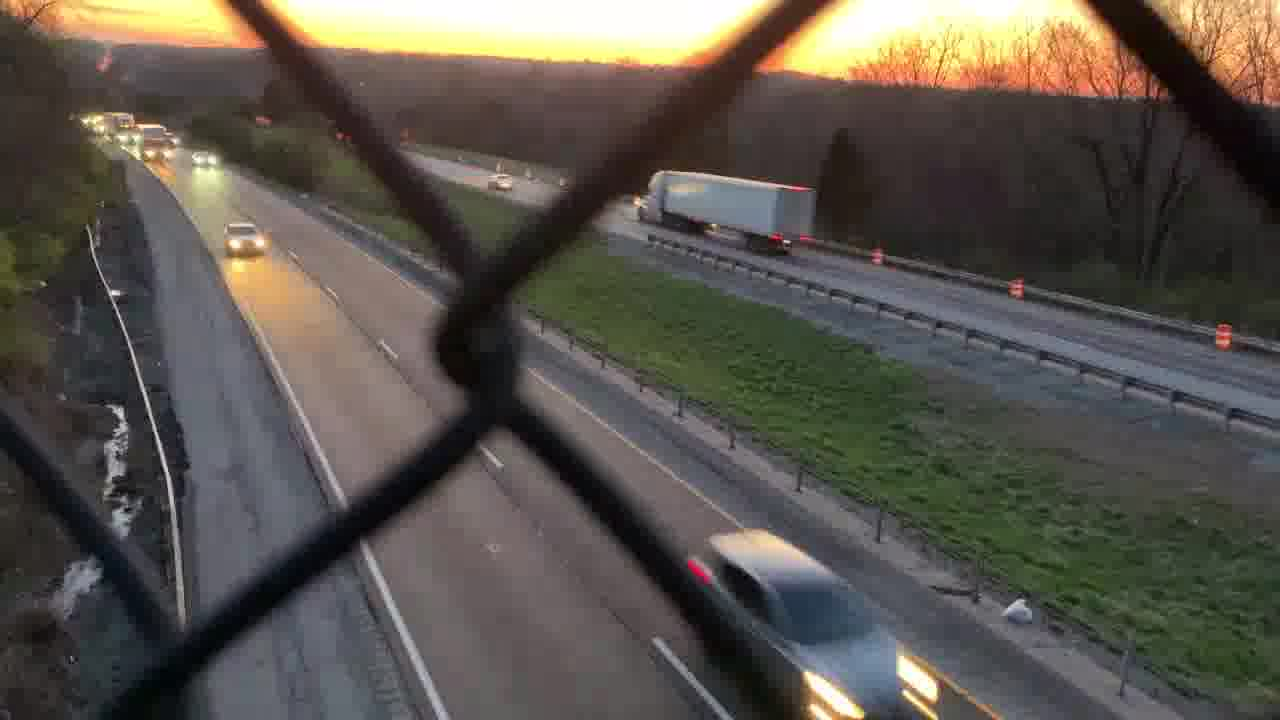heavyTruck: (627, 163, 826, 250)
largeCar: (687, 524, 934, 714)
